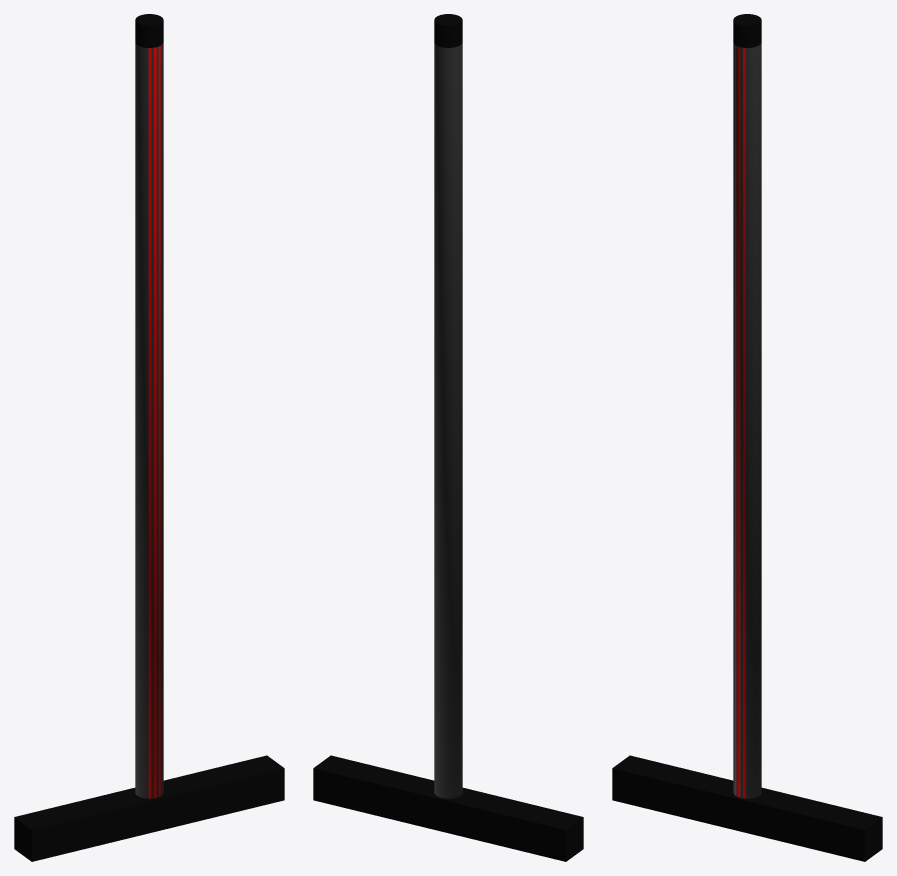
File: broom.obj
3 views of the same model, side by side, from view 1: azimuth 30°, elevation 25°; view 2: azimuth 150°, elevation 25°; view 3: azimuth 330°, elevation 25° (orthographic).
Visible parts, largest first — view 1: broom_Cylinder.001; view 2: broom_Cylinder.001; view 3: broom_Cylinder.001.
Boxes of the visible parts, bbox=[...] form: broom_Cylinder.001: bbox=[14, 14, 284, 861]; broom_Cylinder.001: bbox=[313, 14, 583, 861]; broom_Cylinder.001: bbox=[612, 14, 882, 861].
Bounding box in the file's own units: 0.4011 × 1.22 × 0.0485.
